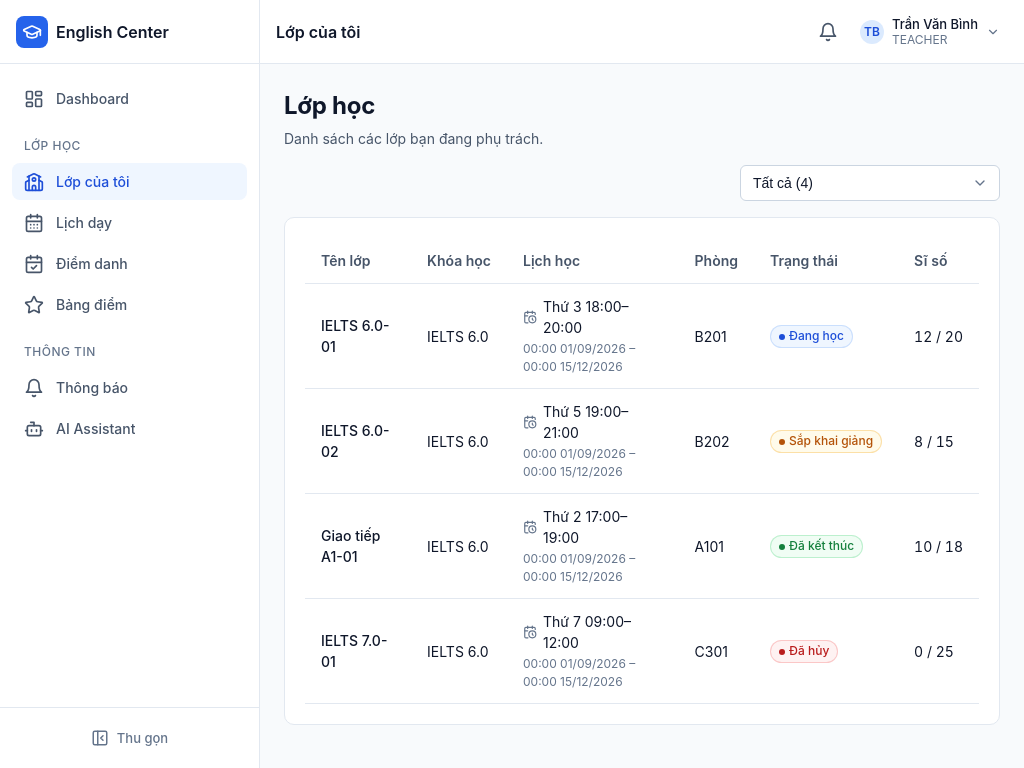
TeacherClassesPage › filters classes by status client-side
Expected: the text "IELTS 6.0-01" is shown, top-left (321, 317), bottom-right (390, 355)
Select "Đang học (1)" in the dropdown named "Lọc trạng thái". click: (870, 183)
box: top-left (740, 165), bottom-right (1000, 201)
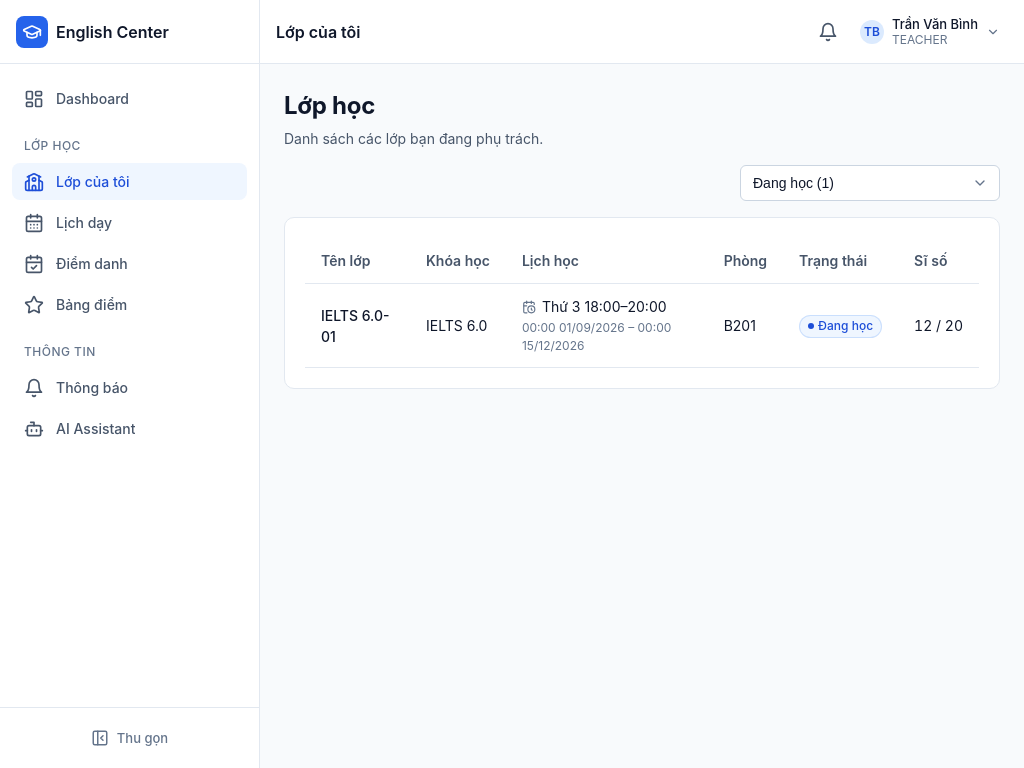
Expected: the text "IELTS 6.0-02" is gone
Expected: the text "Giao tiếp A1-01" is gone
Expected: the text "IELTS 7.0-01" is gone
Select "Tất cả (4)" in the dropdown named "Lọc trạng thái". click: (870, 183)
box: top-left (740, 165), bottom-right (1000, 201)
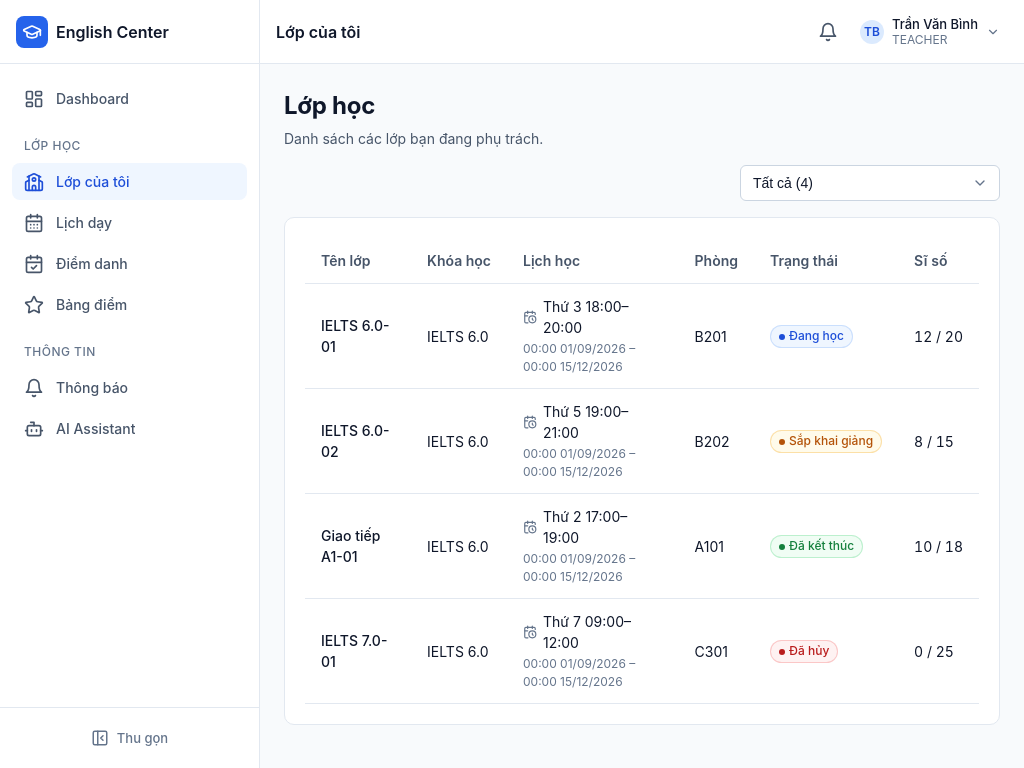
Expected: the text "IELTS 6.0-02" is shown, top-left (321, 422), bottom-right (390, 460)
Expected: the text "Giao tiếp A1-01" is shown, top-left (321, 527), bottom-right (380, 565)
Expected: the text "IELTS 7.0-01" is shown, top-left (321, 632), bottom-right (387, 670)
